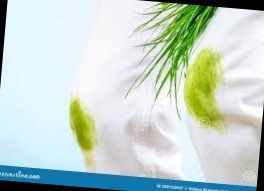earth: (185, 53, 224, 113), (69, 107, 92, 144)
